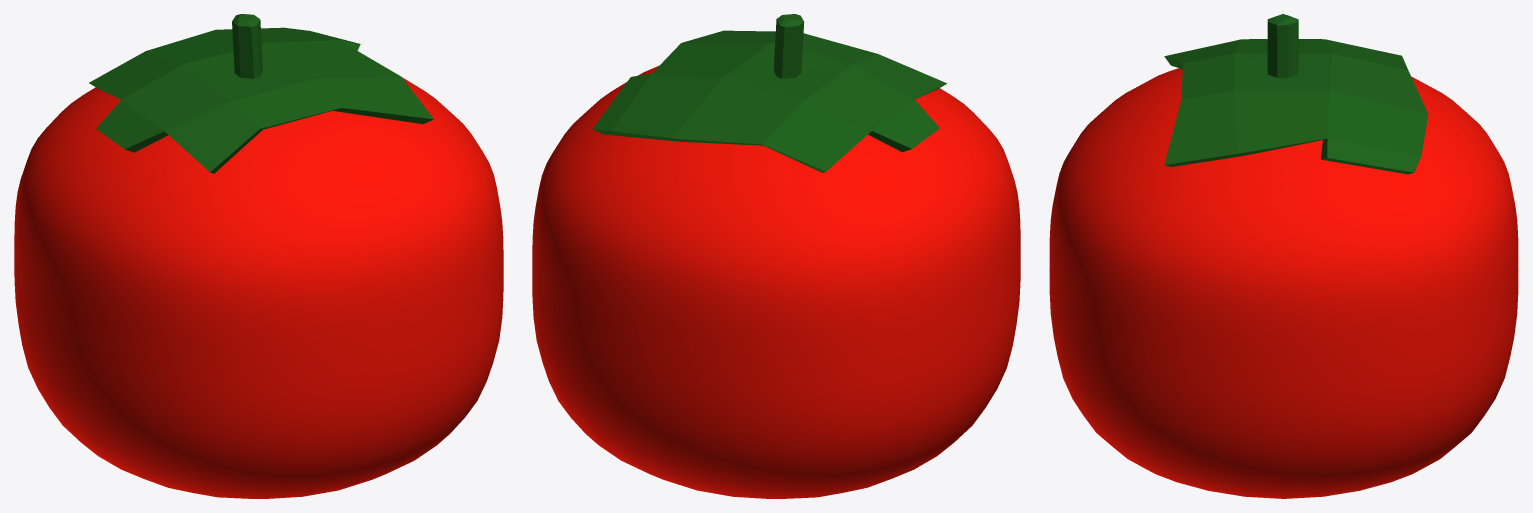
File: tomato.fbx
3 views of the same model, side by side, from view 1: azimuth 30°, elevation 25°; view 2: azimuth 150°, elevation 25°; view 3: azimuth 270°, elevation 25° (orthographic). The views are drawn at different scales.
Parts seen in each view (by area): view 1: Cube; view 2: Cube; view 3: Cube.
Part boxes in pixels (bbox=[...]): Cube: bbox=[14, 14, 503, 498]; Cube: bbox=[532, 14, 1020, 498]; Cube: bbox=[1049, 14, 1518, 498].
Bounding box in the file's own units: 183 × 188 × 183.
